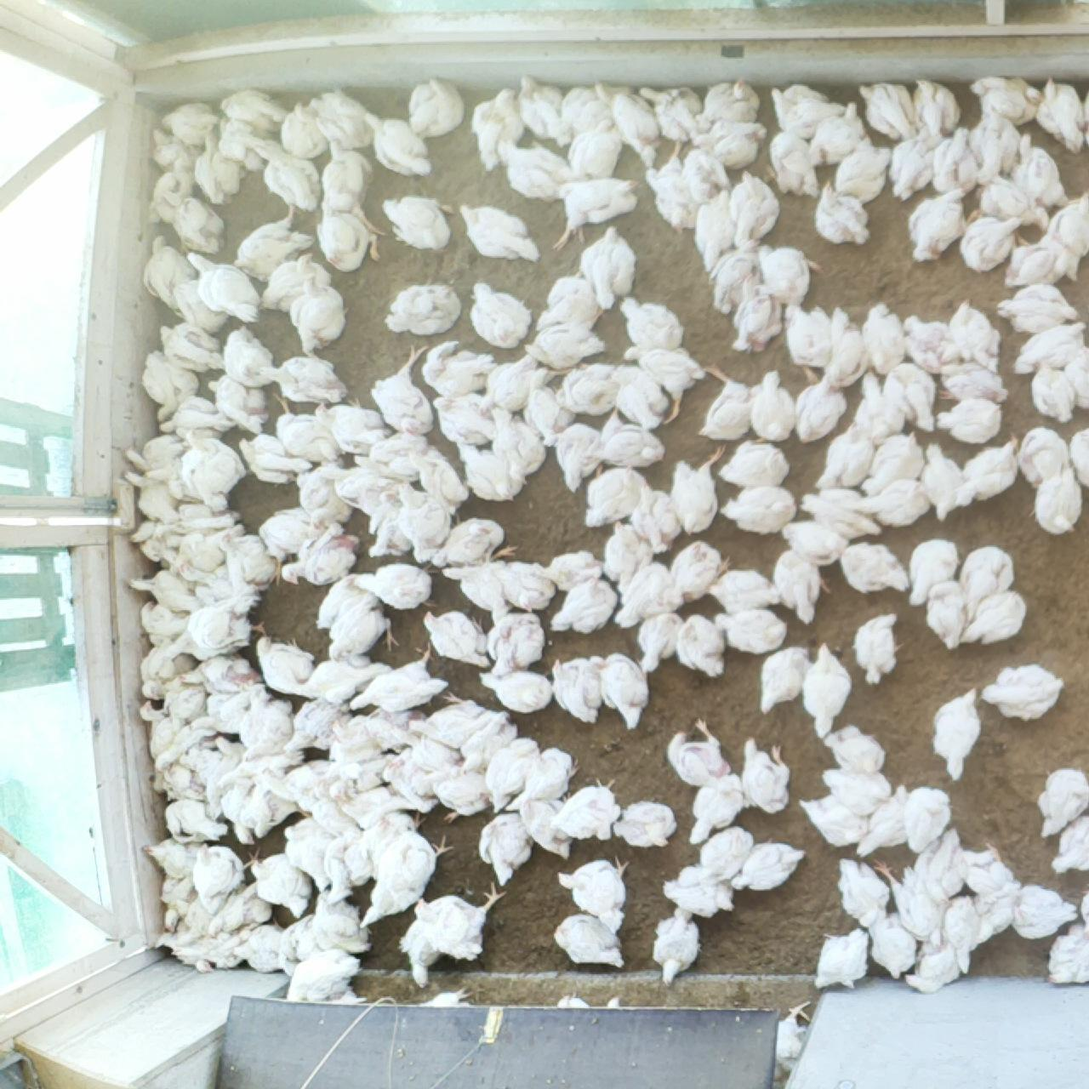chicken: (357, 825, 452, 930), (165, 590, 268, 666), (411, 880, 507, 961), (552, 174, 643, 254), (347, 642, 449, 713), (319, 138, 390, 239), (619, 344, 703, 425), (258, 504, 335, 586), (368, 344, 434, 437), (232, 208, 314, 281), (267, 386, 343, 463), (643, 142, 706, 234), (555, 856, 632, 931), (185, 251, 262, 325), (876, 857, 941, 943), (494, 135, 575, 203), (287, 274, 353, 357), (313, 198, 385, 274), (572, 225, 636, 310), (258, 137, 321, 222), (954, 431, 1019, 513), (178, 426, 240, 510), (980, 660, 1064, 722), (481, 345, 553, 417), (326, 591, 400, 661), (189, 839, 258, 914), (504, 745, 580, 813), (670, 443, 726, 535), (905, 189, 971, 267), (956, 543, 1016, 627), (768, 79, 849, 141), (802, 641, 853, 739), (695, 361, 754, 444), (431, 517, 519, 572), (253, 352, 346, 404), (1008, 133, 1070, 211), (382, 277, 461, 338), (458, 204, 541, 262), (487, 405, 546, 486), (247, 851, 316, 920), (250, 633, 318, 703), (592, 648, 650, 730), (453, 438, 526, 503), (1003, 880, 1082, 940), (393, 481, 450, 564), (1001, 228, 1076, 291), (885, 127, 944, 207), (772, 548, 833, 625), (753, 239, 822, 307), (1032, 74, 1089, 156), (861, 426, 925, 499), (420, 338, 499, 397), (929, 688, 979, 781), (469, 85, 523, 171), (219, 735, 305, 789), (310, 395, 388, 454), (801, 484, 886, 538), (285, 529, 364, 587), (285, 947, 364, 1005), (140, 350, 201, 425), (364, 111, 434, 176), (381, 192, 455, 253), (257, 252, 331, 313), (487, 735, 542, 817), (812, 419, 873, 492), (967, 70, 1041, 130), (762, 125, 821, 200), (408, 694, 493, 746), (898, 310, 962, 379), (914, 824, 969, 904), (688, 770, 745, 847), (969, 100, 1020, 186), (856, 785, 915, 859), (550, 911, 624, 970), (653, 903, 703, 990), (668, 718, 731, 787), (553, 779, 623, 841), (974, 173, 1051, 229), (167, 521, 245, 576), (1014, 320, 1089, 377), (807, 99, 868, 169), (609, 84, 659, 169), (142, 232, 193, 315), (521, 362, 572, 445), (309, 88, 374, 153), (879, 359, 936, 433), (639, 78, 701, 146), (997, 283, 1078, 335), (534, 271, 603, 332), (729, 165, 779, 249), (235, 431, 311, 486), (854, 474, 930, 529), (1028, 468, 1085, 541), (205, 371, 270, 435), (581, 466, 646, 530), (172, 922, 252, 974), (669, 538, 731, 605), (422, 607, 490, 668), (409, 447, 470, 515), (837, 539, 911, 595), (525, 320, 606, 371), (612, 361, 669, 433), (739, 736, 793, 812), (189, 682, 265, 736), (616, 564, 680, 628), (960, 211, 1024, 275), (440, 560, 513, 616), (433, 389, 500, 450), (311, 890, 372, 957), (694, 76, 762, 136), (834, 134, 894, 202), (518, 74, 572, 149), (477, 812, 531, 887), (1043, 190, 1089, 278), (832, 857, 889, 928), (958, 589, 1029, 646), (304, 657, 390, 704), (175, 561, 259, 609), (857, 81, 920, 145), (747, 366, 798, 445), (853, 611, 906, 687), (469, 281, 530, 347), (141, 637, 200, 705), (205, 880, 273, 939), (710, 238, 762, 315), (730, 841, 807, 893), (1016, 423, 1073, 493), (820, 304, 868, 387), (324, 824, 372, 907), (758, 645, 814, 716), (356, 561, 437, 610), (549, 573, 615, 633), (906, 537, 961, 609), (810, 181, 869, 248), (556, 359, 624, 417), (282, 817, 333, 894), (547, 656, 603, 726), (367, 810, 423, 880), (918, 440, 964, 525), (312, 570, 373, 634), (353, 430, 428, 482), (934, 358, 1012, 408), (160, 315, 226, 374), (125, 566, 206, 614), (663, 864, 736, 917), (867, 908, 919, 982), (555, 80, 614, 145), (812, 925, 871, 990), (718, 433, 789, 487), (518, 788, 572, 859), (489, 610, 543, 681), (784, 300, 831, 381), (948, 298, 1000, 371), (1035, 767, 1089, 837), (796, 371, 847, 445), (848, 370, 899, 444), (630, 484, 683, 555), (157, 393, 228, 446), (152, 717, 218, 774), (240, 696, 298, 760), (802, 791, 868, 847), (460, 710, 519, 772), (295, 462, 354, 524), (729, 272, 773, 355), (695, 120, 768, 170), (971, 873, 1023, 943), (282, 697, 349, 751), (215, 84, 287, 134), (322, 461, 394, 511), (171, 274, 229, 336), (194, 131, 243, 204), (592, 419, 665, 468), (172, 194, 227, 259), (779, 519, 855, 566), (822, 762, 889, 815), (217, 530, 280, 586), (137, 680, 209, 729), (709, 610, 791, 653), (569, 117, 621, 184), (487, 559, 554, 611), (901, 782, 950, 853), (940, 895, 984, 974), (951, 843, 1013, 899), (220, 323, 274, 387), (621, 296, 685, 350), (479, 668, 554, 714), (721, 487, 794, 534), (556, 426, 607, 493), (261, 758, 344, 799), (335, 787, 416, 829), (609, 800, 678, 849), (1040, 921, 1089, 990), (408, 77, 465, 136), (864, 301, 908, 377), (177, 653, 265, 691), (707, 568, 781, 613), (122, 515, 188, 565), (160, 796, 230, 843), (775, 998, 818, 1074), (142, 453, 204, 505), (368, 490, 414, 560), (677, 612, 725, 679), (396, 725, 459, 776), (376, 762, 439, 813), (188, 748, 233, 819), (277, 912, 326, 977), (214, 112, 267, 172), (603, 517, 651, 583), (934, 124, 978, 196), (277, 97, 327, 160), (925, 578, 967, 653), (345, 710, 418, 753), (535, 550, 606, 594), (911, 79, 963, 139), (148, 128, 198, 190), (824, 724, 887, 773), (122, 466, 175, 524), (1030, 360, 1078, 424), (935, 396, 1001, 442), (398, 916, 439, 990), (699, 825, 753, 881), (154, 98, 219, 144), (139, 834, 204, 880), (176, 889, 228, 946), (681, 144, 729, 205), (637, 613, 684, 675), (435, 773, 492, 824), (331, 754, 396, 798), (136, 598, 192, 649), (235, 923, 292, 973), (168, 500, 232, 544), (903, 946, 959, 996), (125, 431, 187, 476), (154, 868, 195, 936), (153, 928, 214, 973), (321, 718, 378, 766), (146, 168, 192, 225), (218, 776, 256, 845), (249, 780, 298, 832), (1049, 816, 1089, 878), (747, 292, 787, 353), (146, 717, 191, 767), (154, 764, 207, 805), (305, 797, 358, 837), (1061, 343, 1089, 410), (215, 731, 249, 783), (555, 990, 623, 1014), (418, 984, 478, 1011), (1069, 422, 1089, 488)
